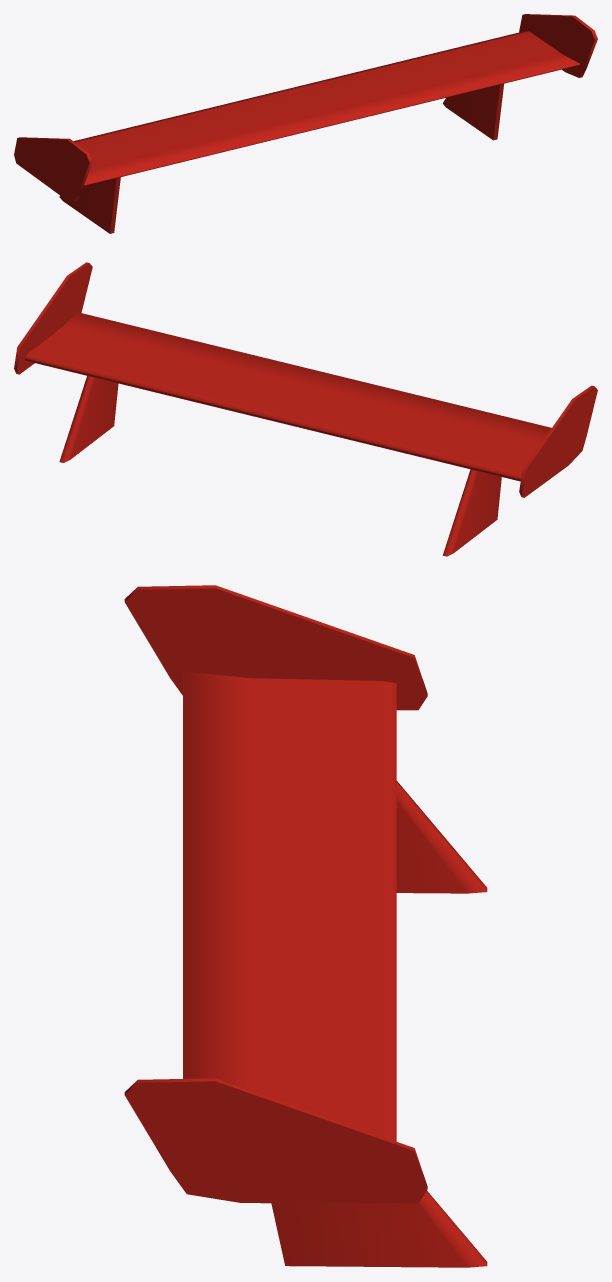
Rendered from stratos_spoiler_2.fbx.
The picture shows the model from 3 angles, top to bottom: view 1: azimuth 30°, elevation 25°; view 2: azimuth 150°, elevation 25°; view 3: azimuth 270°, elevation 25°; orthographic projection. The views are drawn at different scales.
Visible parts, largest first — view 1: Cube; view 2: Cube; view 3: Cube.
Boxes of the visible parts, <box> form: Cube: <box>14,14,597,233</box>; Cube: <box>14,262,597,556</box>; Cube: <box>124,585,487,1267</box>.
Bounding box in the file's own units: 290 × 66.53 × 89.72.
